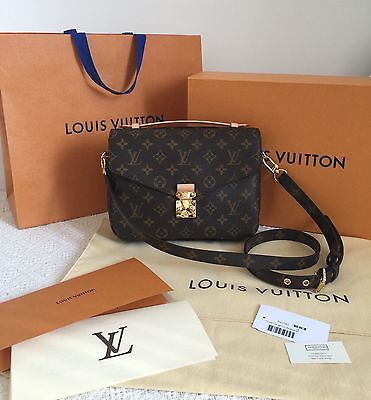LOUIS-VUITTON: (91, 326, 134, 362)
